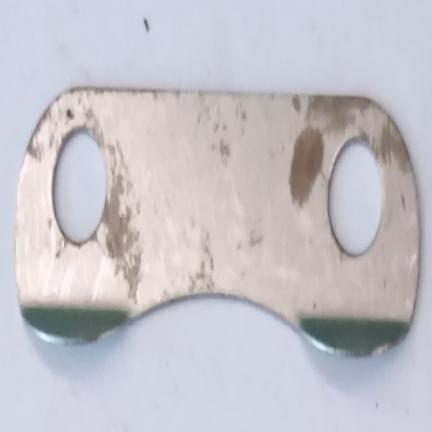besi_tidak_karat: (15, 88, 420, 356)
karat: (105, 171, 141, 299), (290, 128, 323, 206)
